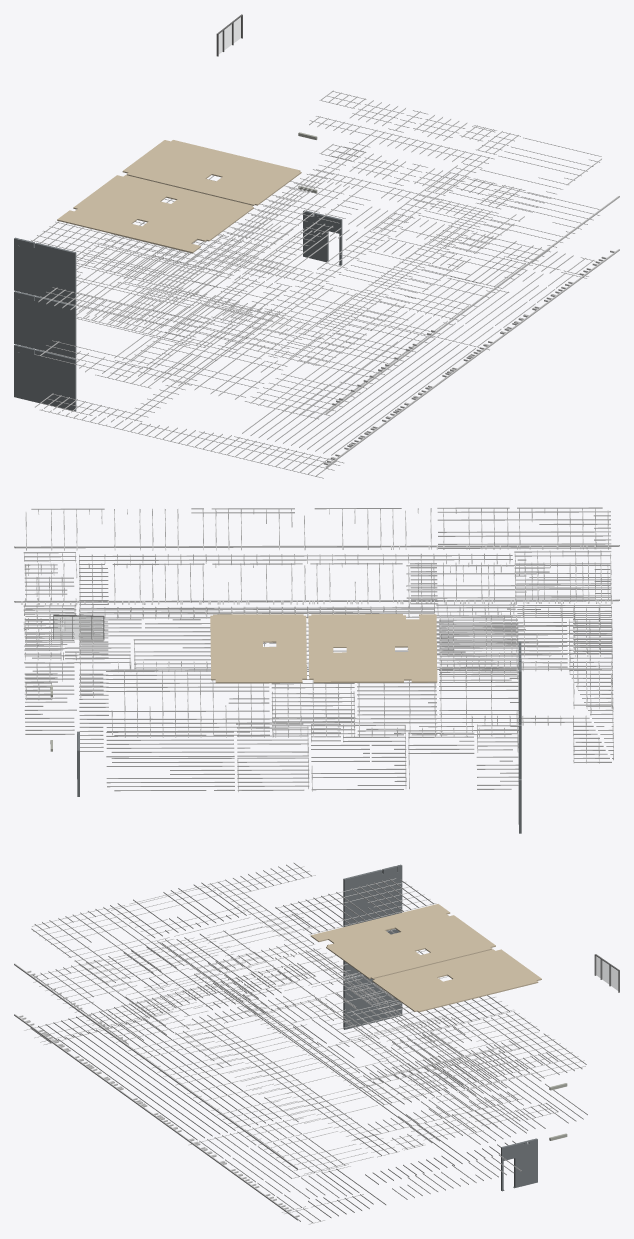
The model's file is pt102-l1t1-1542-102-con-ed-arq-mo-0001-r07.glb.
The picture shows the model from 3 angles, top to bottom: view 1: azimuth 30°, elevation 25°; view 2: azimuth 150°, elevation 25°; view 3: azimuth 270°, elevation 25°; orthographic projection. The views are drawn at different scales.
Parts seen in each view (by area): view 1: 0GITERjqj3c8CXrteR5aFi, 0GITERjqj3c8CXrteR5aJF, 06KuWFRqz9XwNjaQNFgZ3H, 1C38Wpznf7zQVoPbyEKceV, 06KuWFRqz9XwNjaQNFgYeT, 115RzPBIL5F904pD9mFEh8, 0oxLbcDo53IwyDFdlSyIGz, 0s967EGQLFXQRm7Bb4ZzRE; view 2: 0GITERjqj3c8CXrteR5aFi, 0GITERjqj3c8CXrteR5aJF, 0oxLbcDo53IwyDFdlSyIGz, 0s967EGQLFXQRm7Bb4ZzRE, 3DEBStFhb7FgyZXEEV2pfC, 3DEBStFhb7FgyZXEEV2pfE, 3DEBStFhb7FgyZXEEV2pgQ, 3DEBStFhb7FgyZXEEV2pgK, 0xuiDiTIX6O8AI8axw2Bvq, 0xuiDiTIX6O8AI8axw2Bw8, 0xuiDiTIX6O8AI8axw2BwA, 3tCHgB8yr0zhCFOrg70Mtu (+3 smaller); view 3: 0GITERjqj3c8CXrteR5aFi, 0GITERjqj3c8CXrteR5aJF, 1C38Wpznf7zQVoPbyEKceV, 06KuWFRqz9XwNjaQNFgYeT, 115RzPBIL5F904pD9mFEh8, 0oxLbcDo53IwyDFdlSyIGz, 0s967EGQLFXQRm7Bb4ZzRE.
Boxes of the visible parts, <box> form: 0GITERjqj3c8CXrteR5aFi: <box>57,175,253,253</box>; 0GITERjqj3c8CXrteR5aJF: <box>122,140,301,205</box>; 06KuWFRqz9XwNjaQNFgZ3H: <box>14,291,76,358</box>; 1C38Wpznf7zQVoPbyEKceV: <box>14,237,76,304</box>; 06KuWFRqz9XwNjaQNFgYeT: <box>14,344,76,411</box>; 115RzPBIL5F904pD9mFEh8: <box>303,210,342,265</box>; 0oxLbcDo53IwyDFdlSyIGz: <box>325,196,619,414</box>; 0s967EGQLFXQRm7Bb4ZzRE: <box>325,249,619,467</box>; 0GITERjqj3c8CXrteR5aFi: <box>308,614,437,682</box>; 0GITERjqj3c8CXrteR5aJF: <box>210,614,306,683</box>; 0oxLbcDo53IwyDFdlSyIGz: <box>14,545,619,548</box>; 0s967EGQLFXQRm7Bb4ZzRE: <box>14,599,619,602</box>; 3DEBStFhb7FgyZXEEV2pfC: <box>79,610,611,612</box>; 3DEBStFhb7FgyZXEEV2pfE: <box>79,607,611,608</box>; 3DEBStFhb7FgyZXEEV2pgQ: <box>79,559,512,560</box>; 3DEBStFhb7FgyZXEEV2pgK: <box>79,555,512,556</box>; 0xuiDiTIX6O8AI8axw2Bvq: <box>79,668,611,670</box>; 0xuiDiTIX6O8AI8axw2Bw8: <box>79,612,433,614</box>; 0xuiDiTIX6O8AI8axw2BwA: <box>79,608,433,610</box>; 3tCHgB8yr0zhCFOrg70Mtu: <box>79,721,591,723</box>; 0GITERjqj3c8CXrteR5aFi: <box>310,904,495,979</box>; 0GITERjqj3c8CXrteR5aJF: <box>372,949,541,1012</box>; 1C38Wpznf7zQVoPbyEKceV: <box>343,864,402,926</box>; 06KuWFRqz9XwNjaQNFgYeT: <box>343,975,402,1029</box>; 115RzPBIL5F904pD9mFEh8: <box>501,1138,537,1191</box>; 0oxLbcDo53IwyDFdlSyIGz: <box>14,963,297,1169</box>; 0s967EGQLFXQRm7Bb4ZzRE: <box>14,1014,297,1220</box>.
Bounding box in the file's own units: 43.69 × 15.28 × 41.3.
